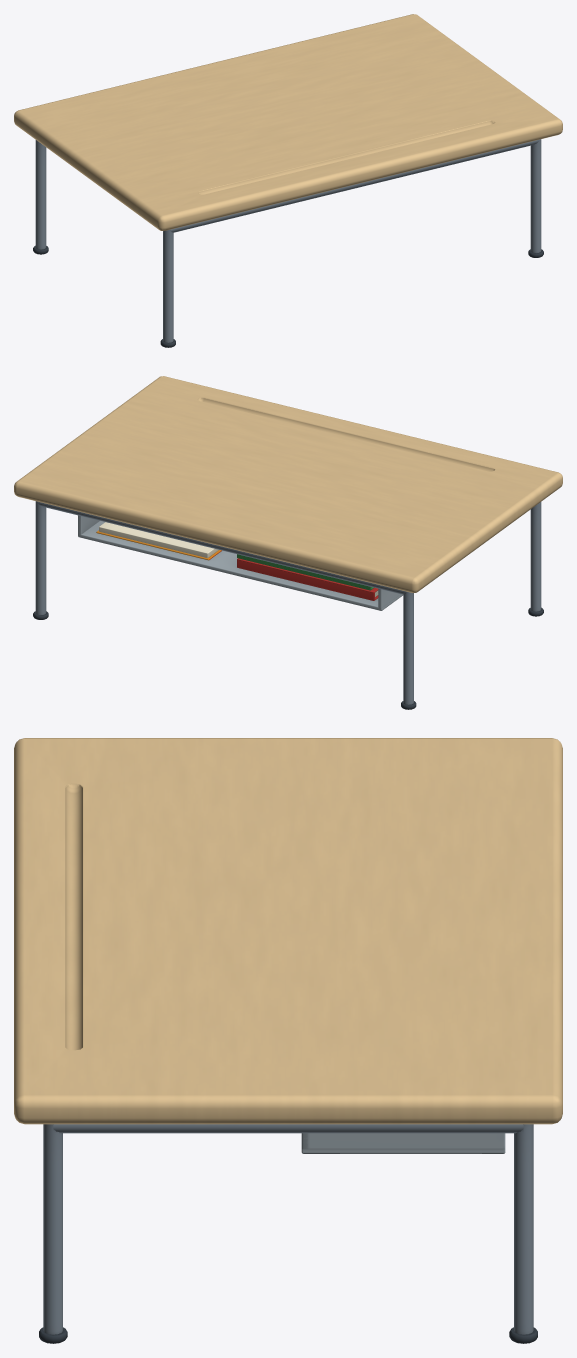
File: school-desk.fbx
The picture shows the model from 3 angles, top to bottom: view 1: azimuth 30°, elevation 25°; view 2: azimuth 150°, elevation 25°; view 3: azimuth 270°, elevation 25°; orthographic projection. The views are drawn at different scales.
Parts seen in each view (by area): view 1: school-desk; view 2: school-desk; view 3: school-desk.
Boxes of the visible parts, box(x1,y1,x2,y2) form: school-desk: box(14, 14, 562, 347); school-desk: box(14, 376, 562, 709); school-desk: box(14, 738, 562, 1343).
Size of the model in its own units: 33000 by 10800 by 21000.
1 material, 1 textured.
